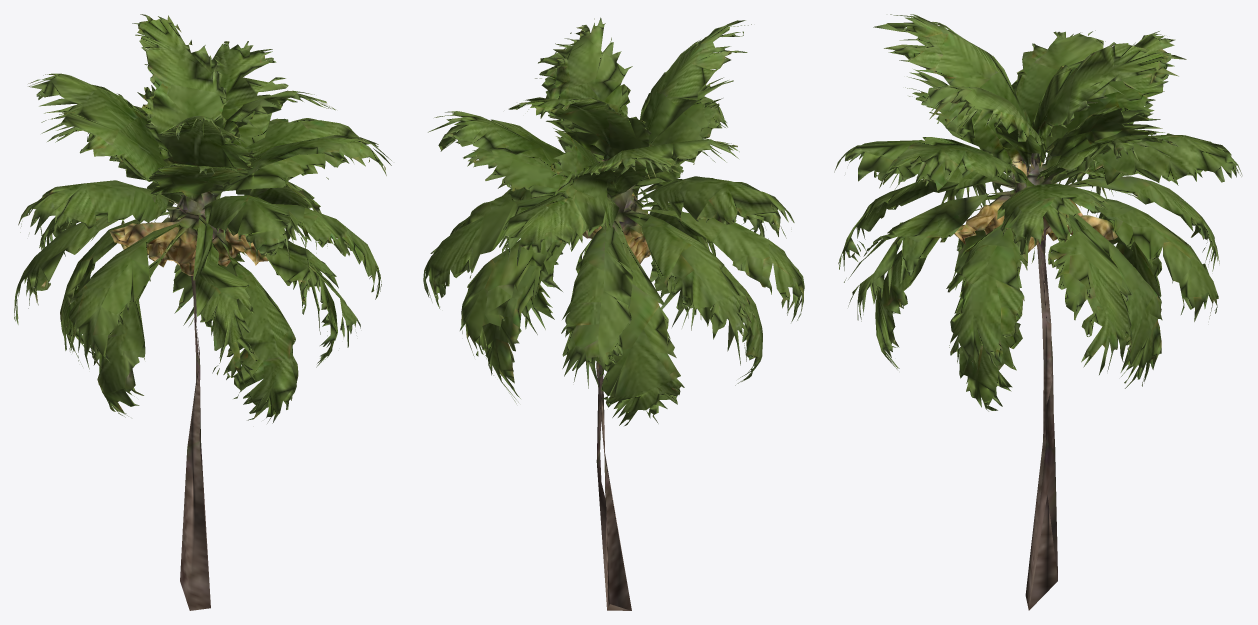
The model's file is palm.glb.
3 views of the same model, side by side, from view 1: azimuth 30°, elevation 25°; view 2: azimuth 150°, elevation 25°; view 3: azimuth 270°, elevation 25° (orthographic). The views are drawn at different scales.
Visible parts, largest first — view 1: Mesh_0; view 2: Mesh_0; view 3: Mesh_0.
Boxes of the visible parts, x1=… form: Mesh_0: x1=14, y1=14, x2=391, y2=610; Mesh_0: x1=423, y1=17, x2=804, y2=610; Mesh_0: x1=834, y1=14, x2=1242, y2=610.
Size of the model in its own units: 1.24 by 1.9 by 1.25.
Materials: 1 (1 with a texture image).
